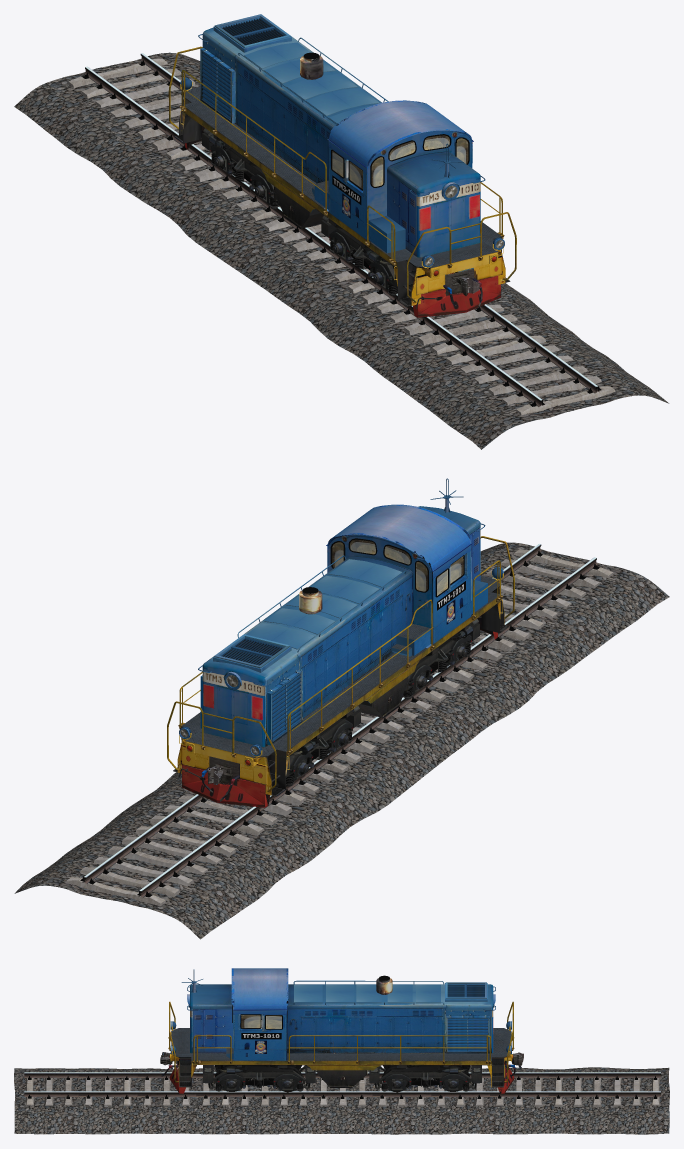
File: diesel_locomotive_tgm3.glb
The picture shows the model from 3 angles, top to bottom: view 1: azimuth 30°, elevation 25°; view 2: azimuth 150°, elevation 25°; view 3: azimuth 270°, elevation 25°; orthographic projection. The views are drawn at different scales.
Visible parts, largest first — view 1: 3DSMeshMatrix (×2); view 2: 3DSMeshMatrix (×2); view 3: 3DSMeshMatrix (×2).
Boxes of the visible parts, x1,y1,x2,y2 form: 3DSMeshMatrix (×2): (14, 14, 669, 449); 3DSMeshMatrix (×2): (14, 478, 669, 939); 3DSMeshMatrix (×2): (14, 968, 669, 1134).
Bounding box in the file's own units: 218 × 205 × 919.
Materials: 11 (8 with a texture image).
